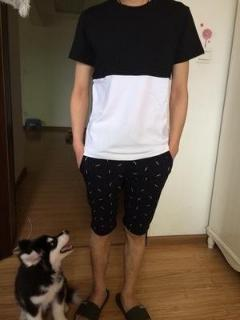short sleeve top: (69, 0, 204, 160)
shorts: (79, 140, 173, 236)
